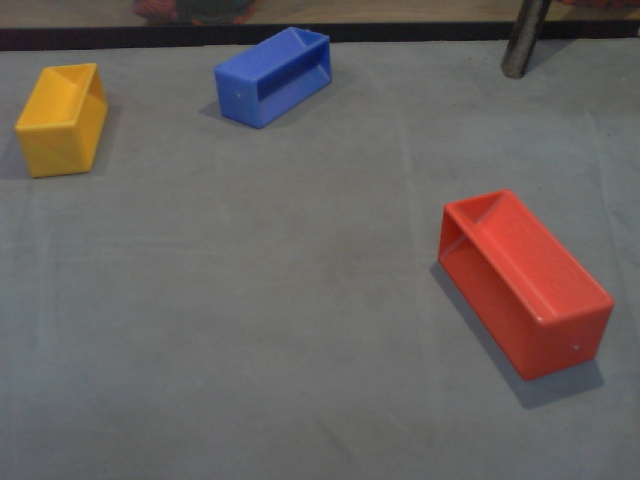BlueSample: (206, 24, 335, 130)
RedSample: (432, 185, 615, 382)
YellowSample: (14, 57, 112, 187)
